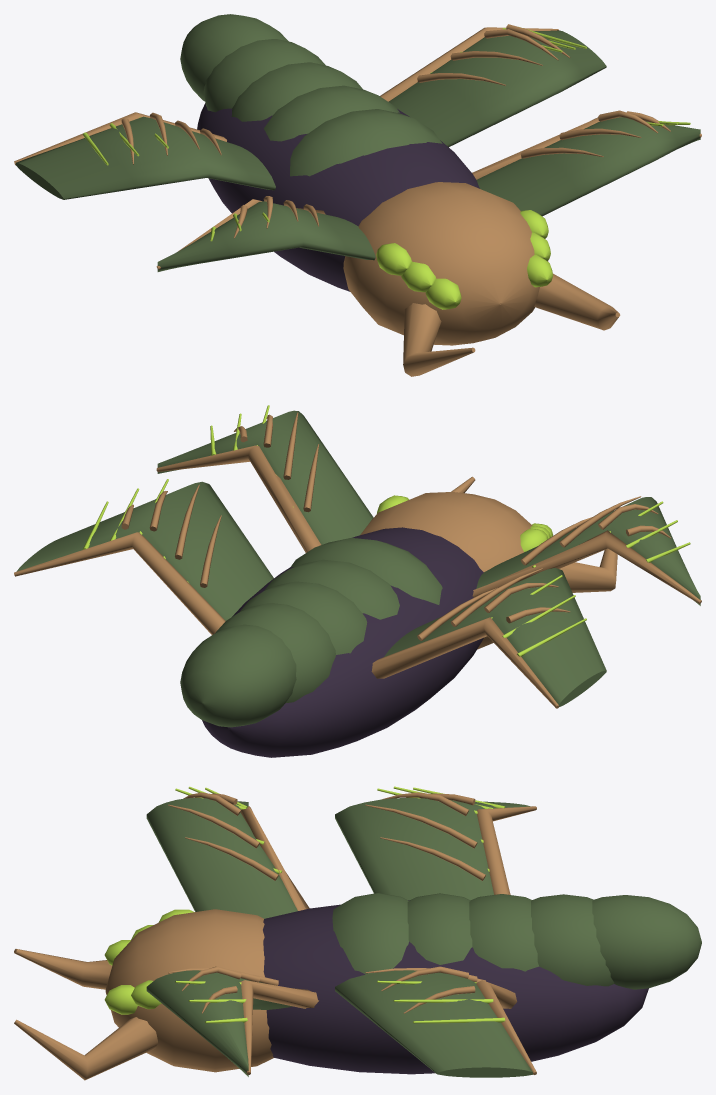
File: hive_mother.glb
The picture shows the model from 3 angles, top to bottom: view 1: azimuth 30°, elevation 25°; view 2: azimuth 150°, elevation 25°; view 3: azimuth 270°, elevation 25°; orthographic projection.
Parts seen in each view (by area): view 1: hive_mother; view 2: hive_mother; view 3: hive_mother.
Boxes of the visible parts, x1,y1,x2,y2 form: hive_mother: [14, 14, 701, 376]; hive_mother: [14, 405, 701, 757]; hive_mother: [14, 786, 701, 1080].
Size of the model in its own units: 3.15 by 0.9927 by 3.44.
